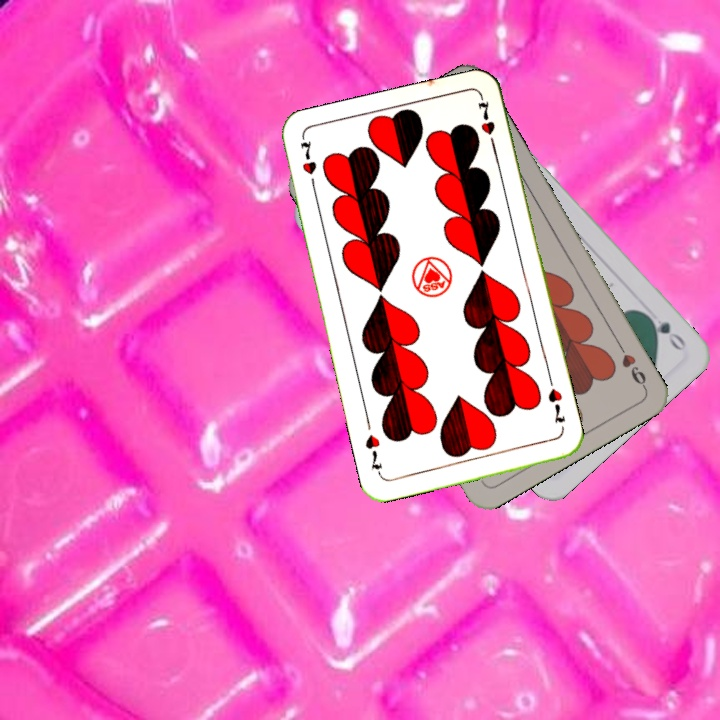GO: (641, 310, 689, 354)
H7: (296, 135, 319, 194), (543, 384, 568, 427)
H9: (613, 338, 649, 391)
